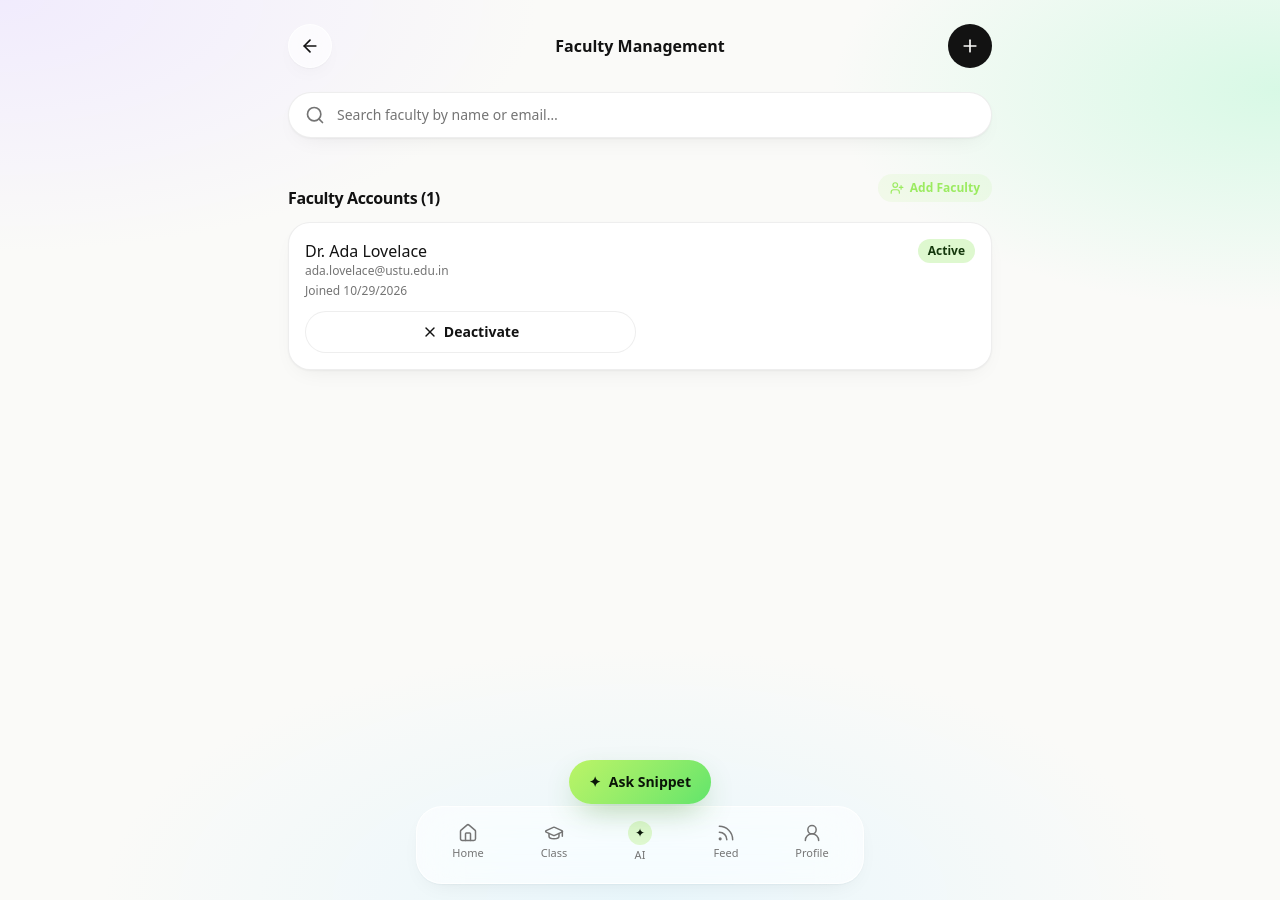
Test case: Admin FacultyManagement Component › 2. Opens modal and successfully creates a new faculty member with subject assignment
This screenshot has width=1280, height=900.
Expected: the text "Dr. Ada Lovelace" is shown, [305,240,427,262]
Note: Click "Add Faculty Member" button
Click the button named "Add Faculty Member" at (970, 46), box [948,24,992,68]
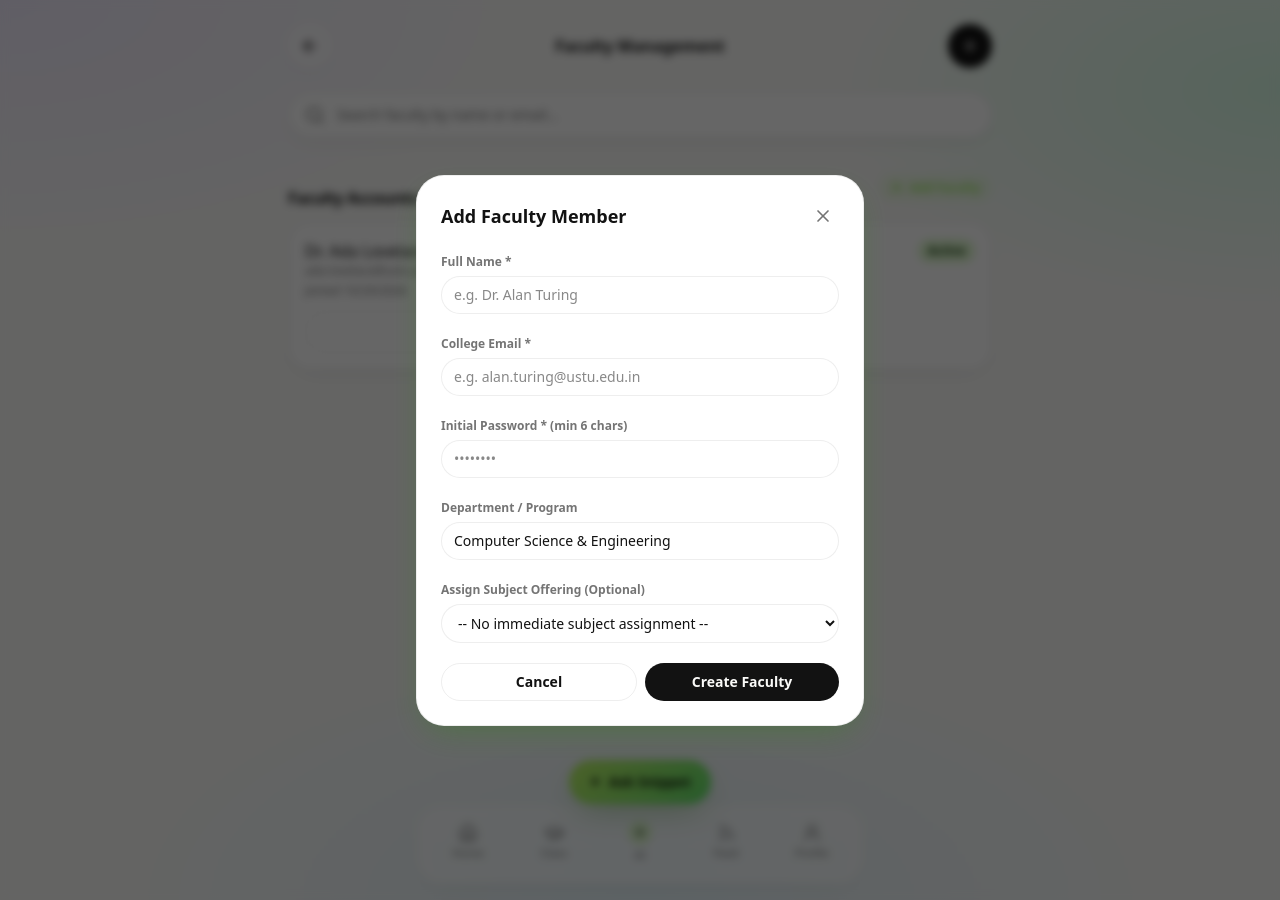
Expected: the heading "Add Faculty Member" is shown, [441,202,626,230]
Type "Dr. Alan Turing" into the field with placeholder "e.g. Dr. Alan Turing" at (640, 294), box [441,276,839,314]
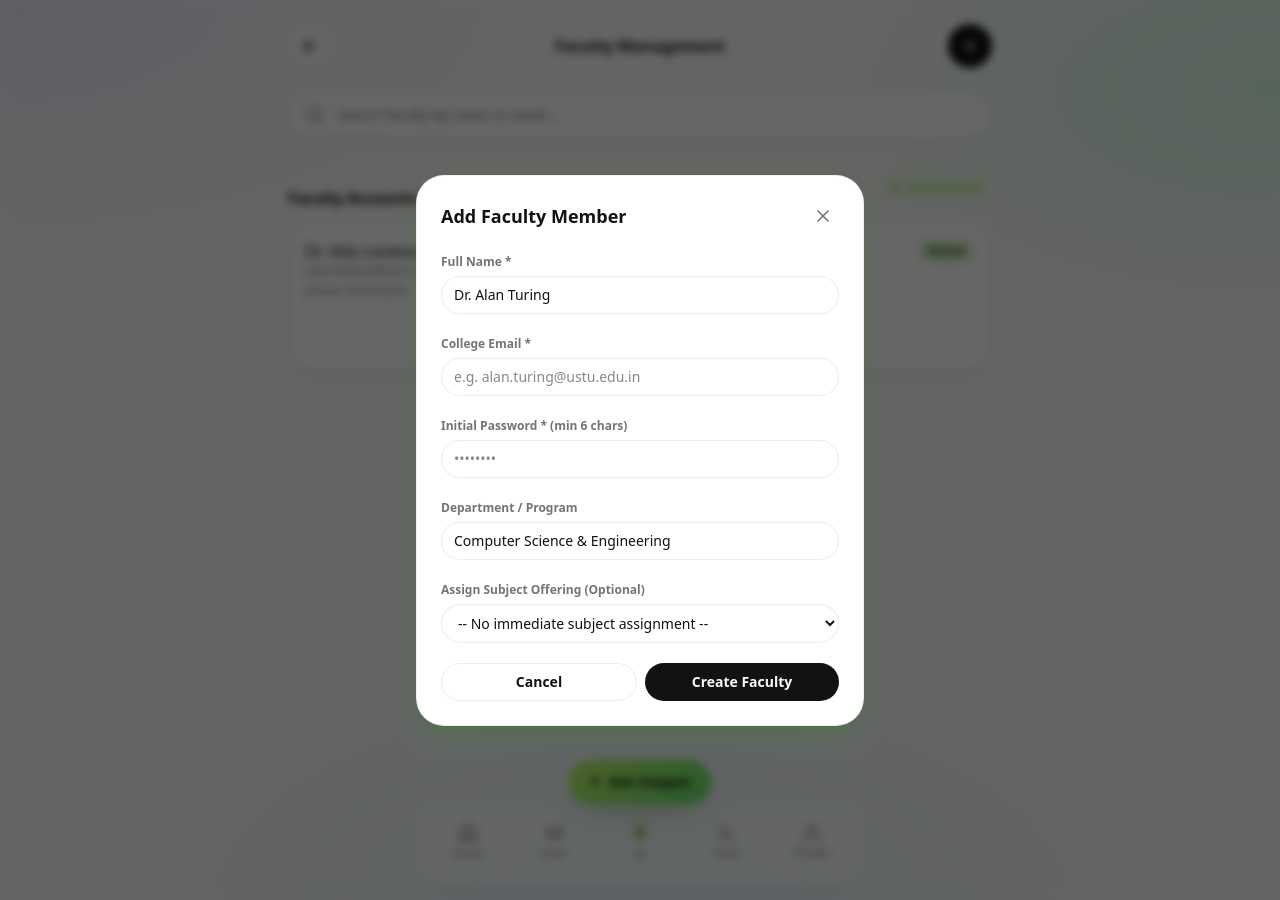
Type "alan.turing@ustu.edu.in" into the field with placeholder "e.g. alan.turing@ustu.edu.in" at (640, 376), box [441,358,839,396]
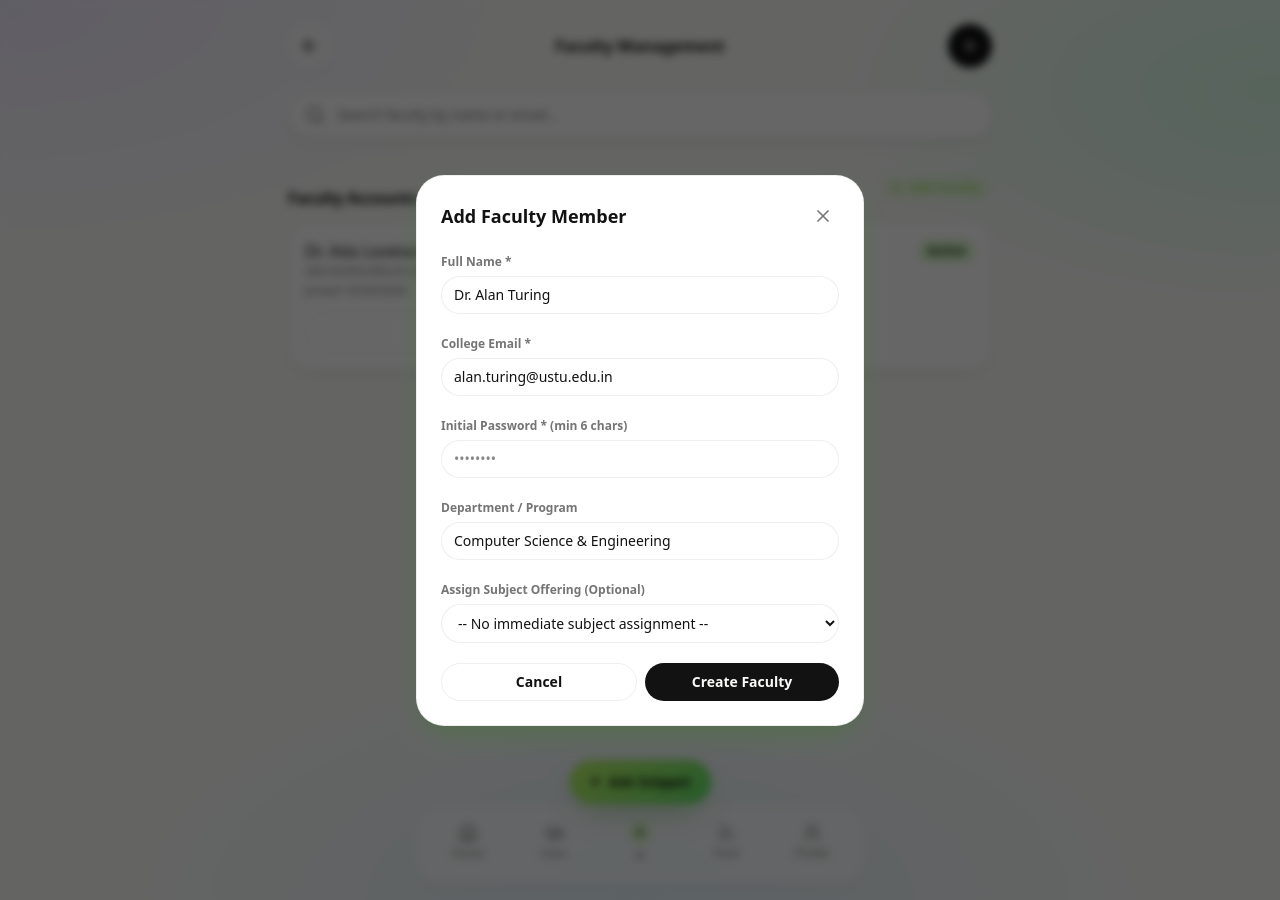
Type "securePass123" into the password field with placeholder "••••••••" at (640, 458), box [441,440,839,478]
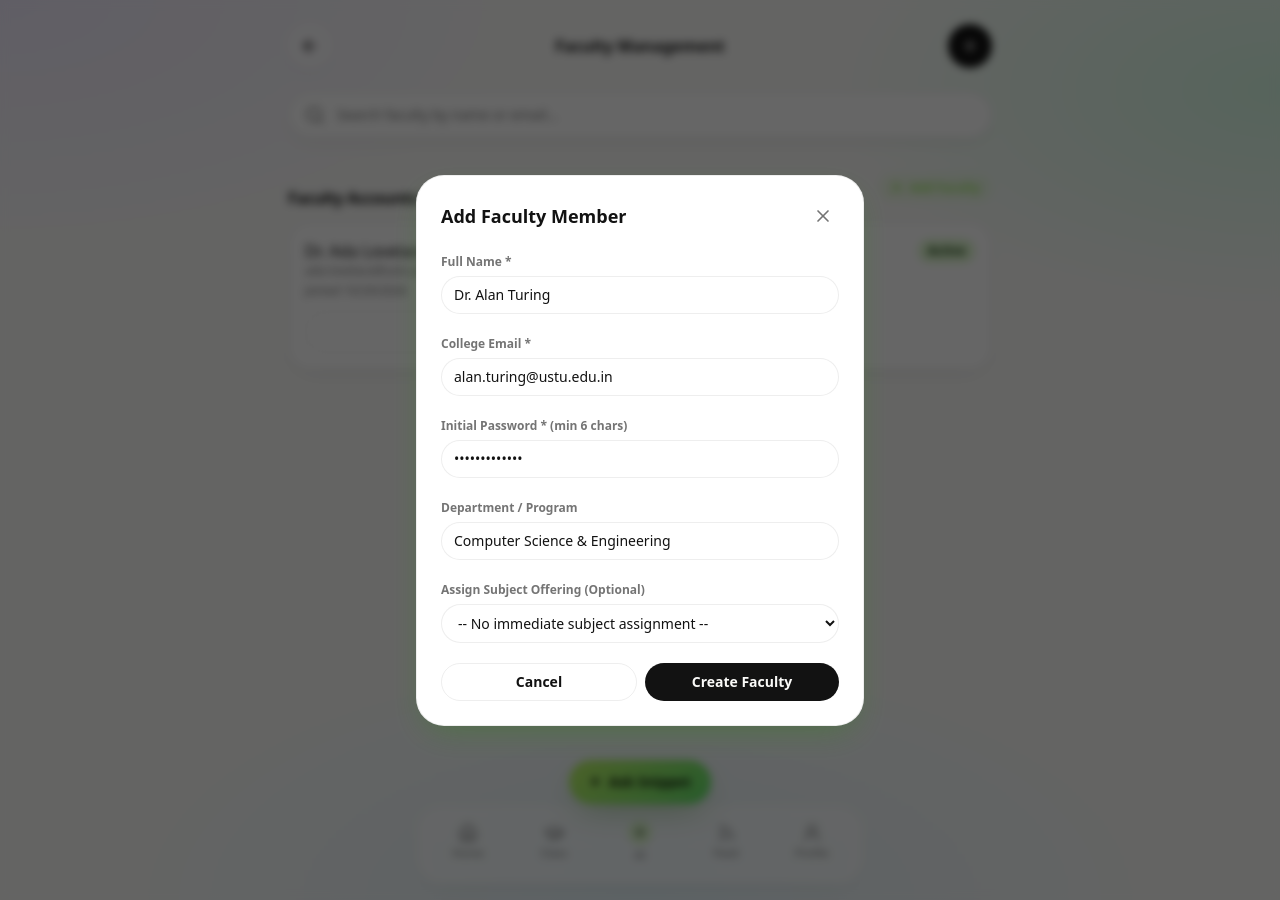
Note: Submit form
Click the button "Create Faculty" at (742, 682), box [645,662,839,700]
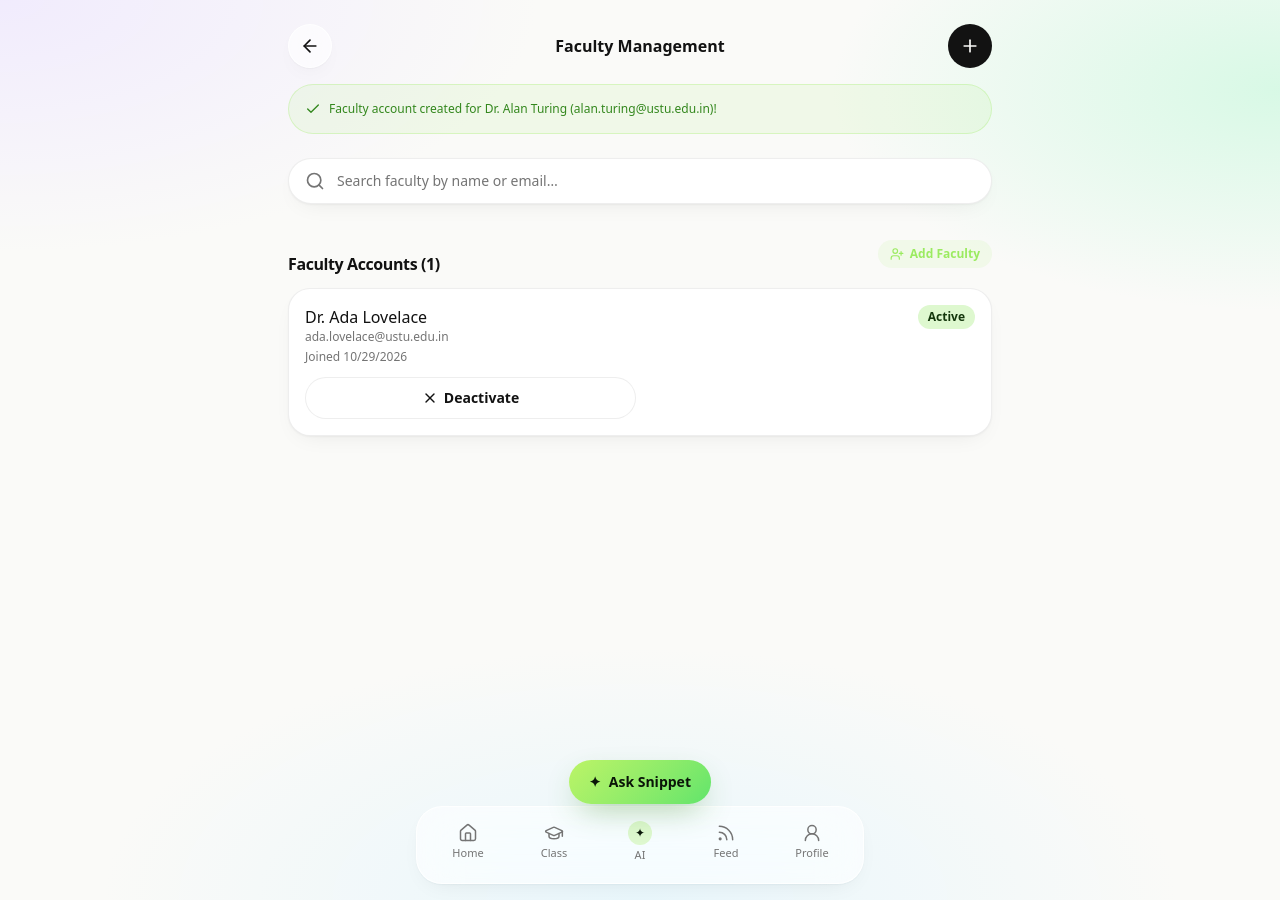
Expected: the text "Faculty account created for Dr. Alan Turing (alan.turing@ustu.edu.in)!" is shown, [329,101,717,117]
